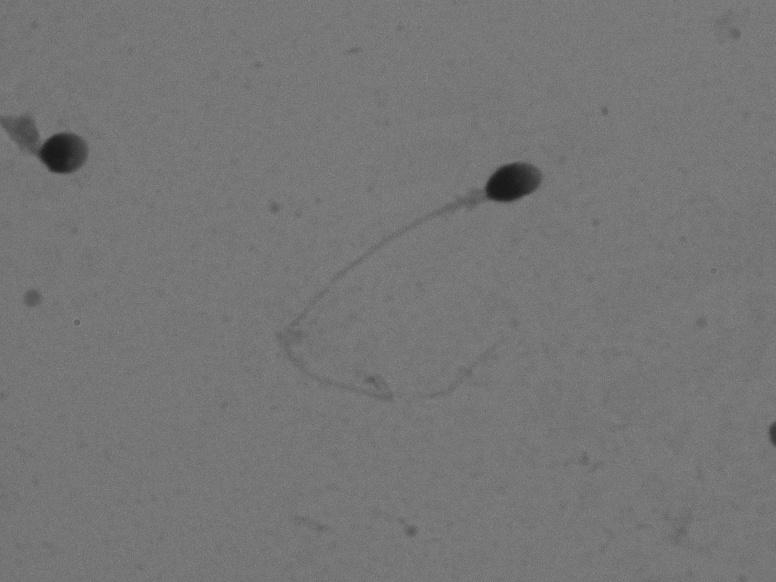Abnormal: (245, 136, 611, 420)
